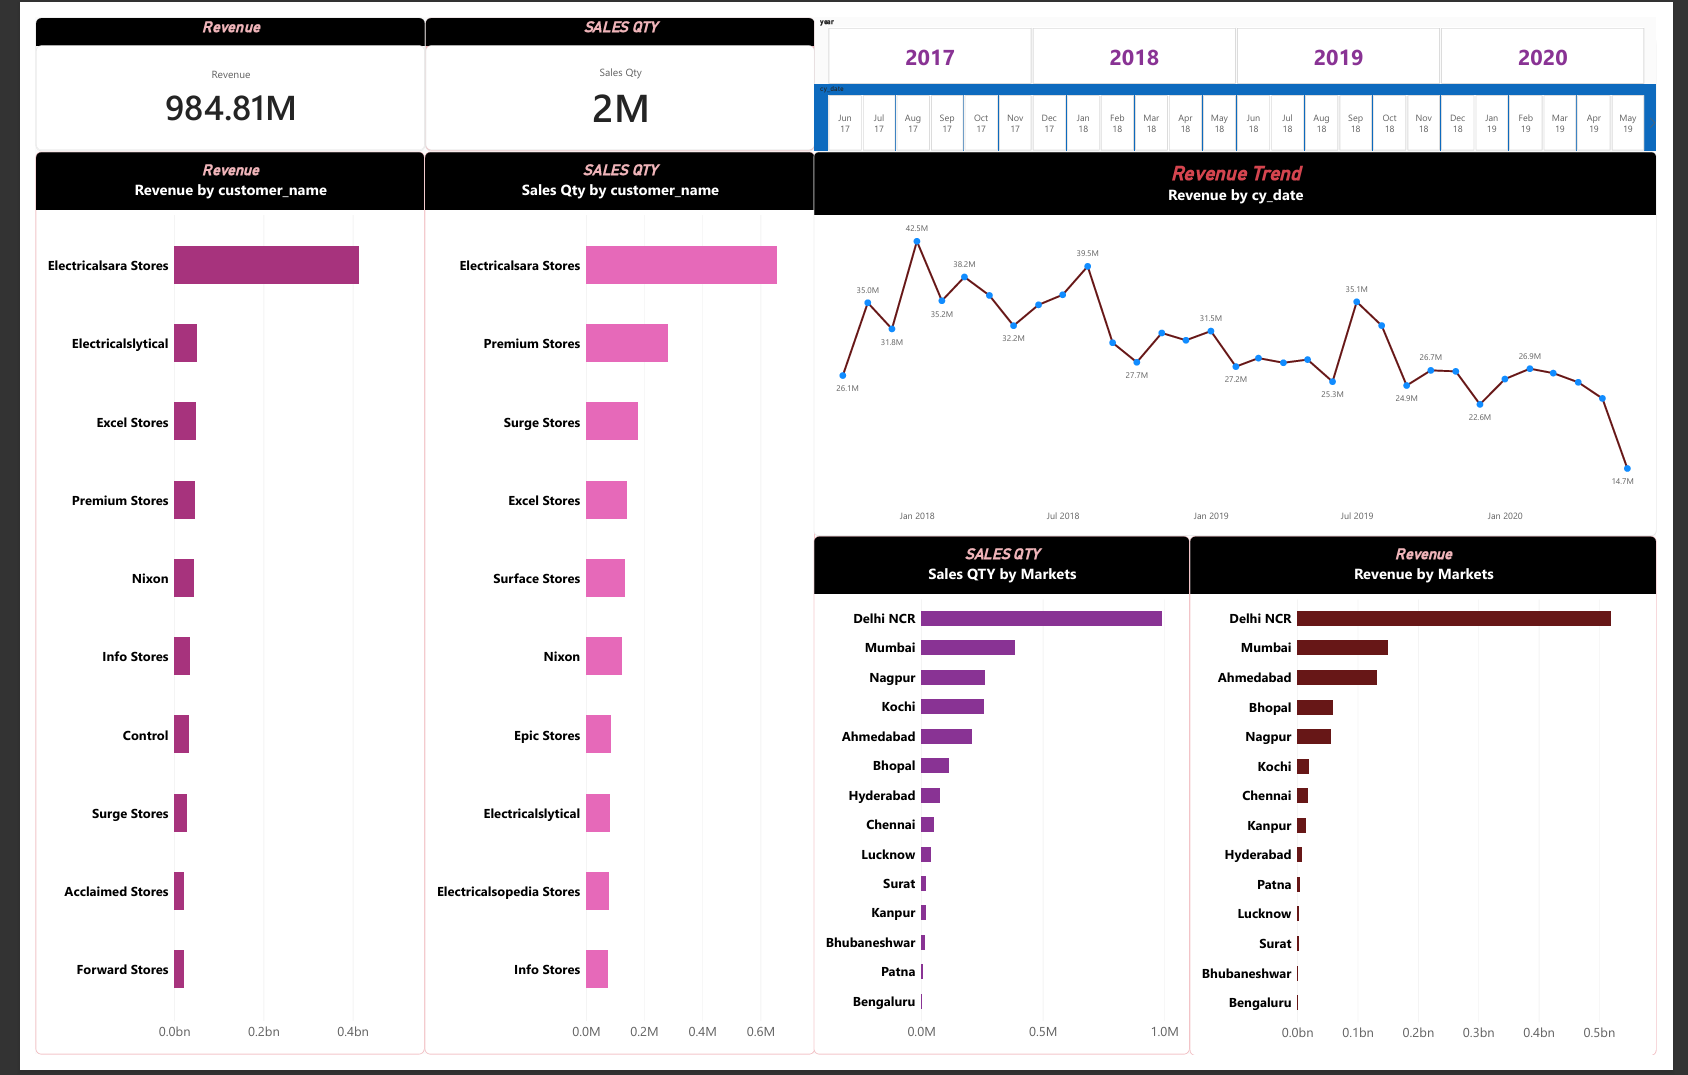

This screenshot's page, from the dashboard's own definition file:
{"tool":"powerbi","page":{"name":"Sales Overview","canvas":[2500,1600],"ordinal":0},"visuals":[{"type":"cardVisual","title":"Revenue","fields":{"Data":["BaseMeasures.Revenue"]},"box":[0,0,601,205.8],"z":0},{"type":"cardVisual","title":"SALES QTY","fields":{"Data":["BaseMeasures.Sales Qty"]},"box":[601,0,601,205.8],"z":1000},{"type":"barChart","title":"Revenue","fields":{"Category":["sales customers.custmer_name"],"Y":["BaseMeasures.Revenue"]},"box":[0,206.5,600,1393.5],"z":2000},{"type":"barChart","title":"SALES QTY","fields":{"Category":["sales customers.custmer_name"],"Y":["BaseMeasures.Sales Qty"]},"box":[600,206.5,602.2,1393.5],"z":3000},{"type":"slicer","fields":{"Values":["sales date.year"]},"box":[1202.2,0,1297.8,104.3],"z":4000},{"type":"slicer","fields":{"Values":["sales date.cy_date"]},"box":[1202.2,104.3,1297.8,102.2],"z":5000},{"type":"barChart","title":"Revenue","fields":{"Category":["sales markets.markets_name"],"Y":["BaseMeasures.Revenue"]},"box":[1780.4,800,719.6,802.2],"z":5001},{"type":"barChart","title":"SALES QTY","fields":{"Category":["sales markets.markets_name"],"Y":["BaseMeasures.Sales Qty"]},"box":[1200,800,580.4,800],"z":5002},{"type":"lineChart","title":"Revenue Trend","fields":{"Category":["sales date.cy_date"],"Y":["BaseMeasures.Revenue"]},"box":[1200,206.5,1300,593.5],"z":5003}]}

Visuals, with their boxes in screenshot pixels (x1, y1, x2, y2), scaled from the page's 2500x1600 canvas onto the 1688x1075 screenshot:
"Revenue" cardVisual: crop(0, 0, 406, 138)
"SALES QTY" cardVisual: crop(406, 0, 812, 138)
"Revenue" barChart: crop(0, 139, 405, 1074)
"SALES QTY" barChart: crop(405, 139, 812, 1074)
slicer - sales date.year: crop(812, 0, 1687, 70)
slicer - sales date.cy_date: crop(812, 70, 1687, 139)
"Revenue" barChart: crop(1202, 538, 1687, 1074)
"SALES QTY" barChart: crop(810, 538, 1202, 1074)
"Revenue Trend" lineChart: crop(810, 139, 1687, 538)
